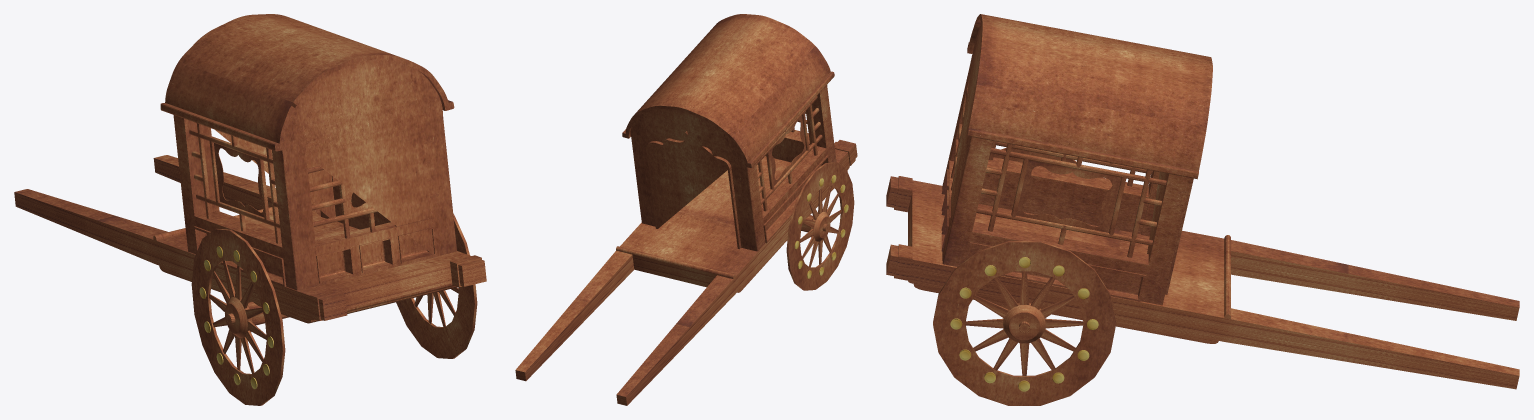
Rendered from mache.FBX.
The picture shows the model from 3 angles, left to right: view 1: azimuth 30°, elevation 25°; view 2: azimuth 150°, elevation 25°; view 3: azimuth 270°, elevation 25°; orthographic projection. The views are drawn at different scales.
Visible parts, largest first — view 1: Line01, Box01, Cylinder045, Cylinder060, Box035, Cylinder032, Box024, Box022, Box023, Box025; view 2: Line01, Box01, Cylinder045, Box035, Cylinder032, Box023; view 3: Line01, Box01, Cylinder060, Box042, Cylinder058, Box038, Box040, Box023.
Boxes of the visible parts, <box> form: Line01: <box>160,14,456,290</box>; Box01: <box>14,155,486,323</box>; Cylinder045: <box>191,228,285,405</box>; Cylinder060: <box>396,214,477,358</box>; Box035: <box>214,143,264,217</box>; Cylinder032: <box>225,296,252,338</box>; Box024: <box>196,123,211,218</box>; Box022: <box>189,129,273,163</box>; Box023: <box>196,194,280,228</box>; Box025: <box>266,148,281,243</box>; Line01: <box>622,14,836,251</box>; Box01: <box>515,140,857,405</box>; Cylinder045: <box>786,162,854,290</box>; Box035: <box>769,115,806,185</box>; Cylinder032: <box>810,211,830,241</box>; Box023: <box>760,134,822,204</box>; Line01: <box>941,14,1212,305</box>; Box01: <box>886,176,1519,389</box>; Cylinder060: <box>933,241,1116,405</box>; Box042: <box>1016,160,1121,232</box>; Cylinder058: <box>1003,303,1045,343</box>; Box038: <box>990,148,1166,185</box>; Box040: <box>976,207,1152,245</box>; Box023: <box>992,141,1152,174</box>.
Size of the model in its own units: 48.54 by 73 by 125.
Materials: 2 (2 with a texture image).
